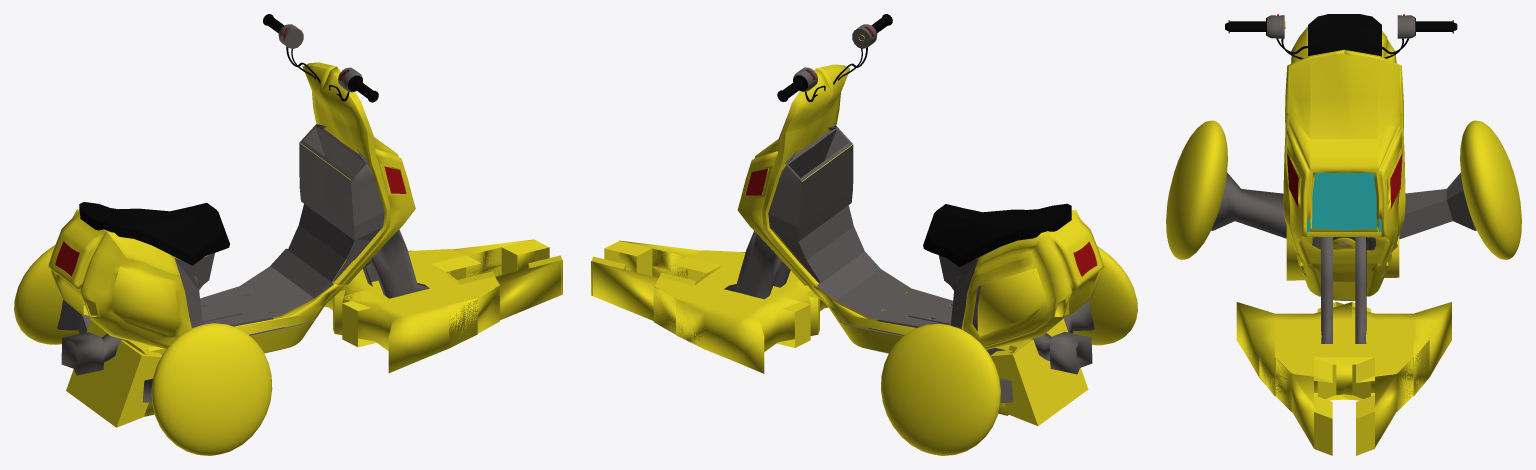
The model's file is 90Cmodelo.fbx.
3 renders of one model, left to right at view 1: azimuth 30°, elevation 25°; view 2: azimuth 150°, elevation 25°; view 3: azimuth 270°, elevation 25°, orthographic. The views are drawn at different scales.
Visible parts, largest first — view 1: pasted__pasted__polySurface88, pasted__pasted__pSphere8, Sphere001, Box002, pasted__pasted__pCube2, Box001, Box004, Sphere002, Box003, pasted__pasted__polySurface87, Box007; view 2: pasted__pasted__polySurface88, pasted__pasted__pSphere8, Sphere002, Box001, pasted__pasted__pCube2, Box002, Box004, Sphere001, Box003, pasted__pasted__polySurface87, Box006; view 3: pasted__pasted__pSphere8, Box001, Box002, Sphere001, Sphere002, pasted__pasted__polySurface82, Box006, Box007, pasted__pasted__pCube2, pasted__pasted__polySurface87, pasted__pasted__polySurface88, Box005 (+2 smaller).
Boxes of the visible parts, x1,y1,x2,y2 form: pasted__pasted__polySurface88: (61, 124, 384, 375); pasted__pasted__pSphere8: (48, 62, 429, 348); Sphere001: (151, 323, 272, 455); Box002: (333, 255, 562, 373); pasted__pasted__pCube2: (79, 202, 229, 265); Box001: (324, 239, 549, 347); Box004: (66, 320, 161, 427); Sphere002: (14, 245, 79, 344); Box003: (109, 266, 179, 335); pasted__pasted__polySurface87: (263, 14, 378, 102); Box007: (57, 299, 90, 333); pasted__pasted__polySurface88: (768, 125, 1092, 374); pasted__pasted__pSphere8: (724, 64, 1104, 349); Sphere002: (881, 323, 1000, 455); Box001: (591, 256, 819, 373); pasted__pasted__pCube2: (923, 203, 1071, 267); Box002: (604, 240, 828, 347); Box004: (990, 318, 1088, 425); Sphere001: (1073, 246, 1137, 345); Box003: (977, 268, 1046, 336); pasted__pasted__polySurface87: (777, 14, 892, 102); Box006: (1063, 300, 1094, 333); pasted__pasted__pSphere8: (1283, 26, 1405, 343); Box001: (1317, 302, 1451, 455); Box002: (1236, 302, 1370, 455); Sphere001: (1166, 120, 1227, 259); Sphere002: (1460, 120, 1521, 259); pasted__pasted__polySurface82: (1307, 173, 1381, 231); Box006: (1211, 172, 1286, 238); Box007: (1399, 172, 1476, 239); pasted__pasted__pCube2: (1308, 14, 1381, 56); pasted__pasted__polySurface87: (1225, 14, 1457, 59); pasted__pasted__polySurface88: (1299, 237, 1397, 300); Box005: (1286, 226, 1399, 280).
Size of the model in its own units: 1.65 by 0.9812 by 0.9636.
